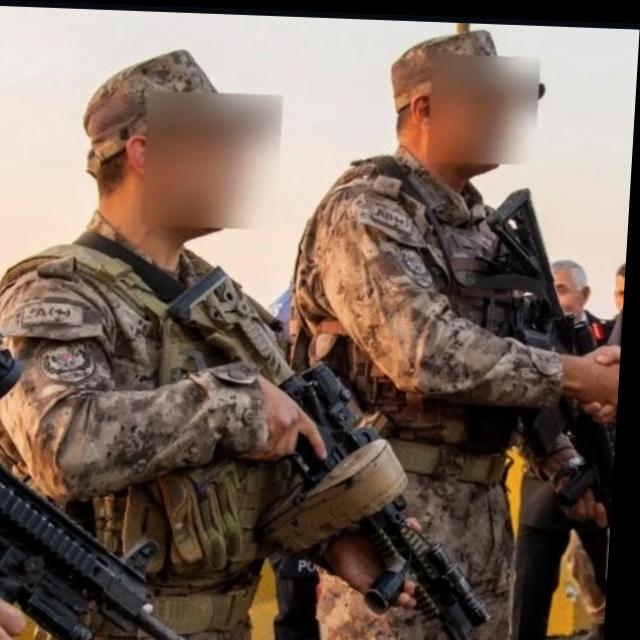poh_personel: (0, 41, 448, 640), (281, 20, 639, 640)
